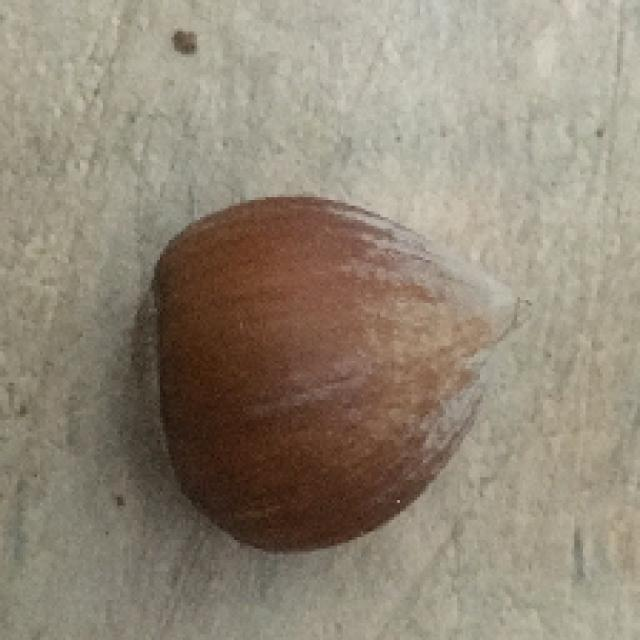qualityHazelnut: (133, 188, 524, 550)
